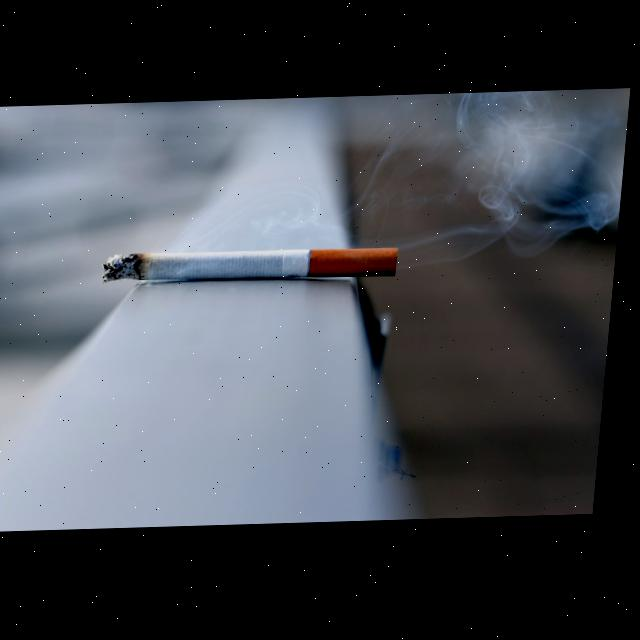cigarette: (105, 249, 404, 287)
